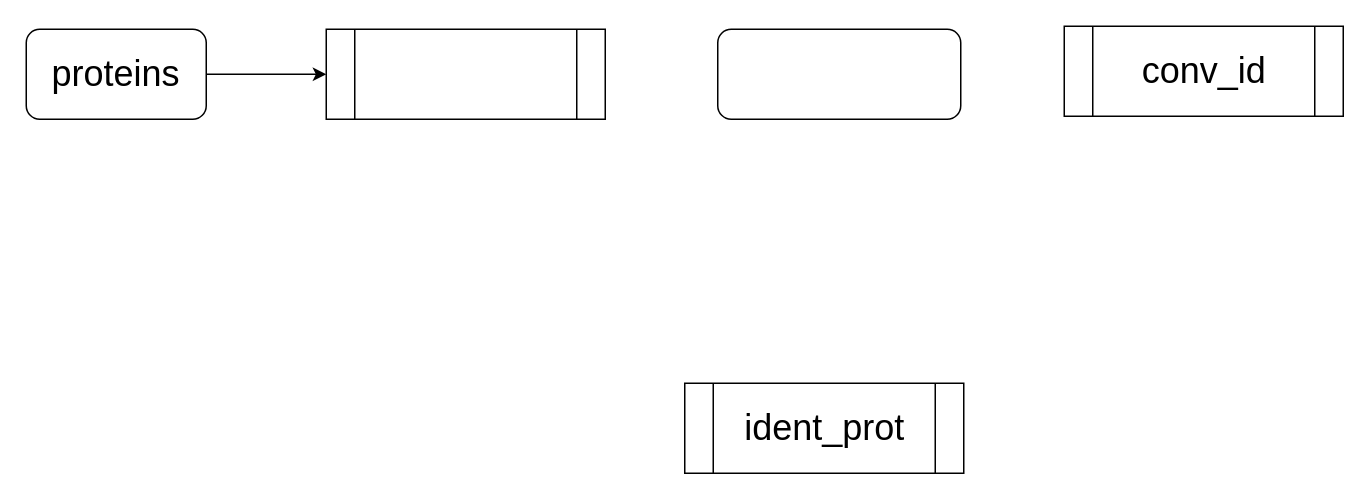
This 1370x500 diagram has some shape labels left out. Each missing label, with the centre of its shape:
annotation result: the point at 838,73
eggnog-emmaper: the point at 465,73
